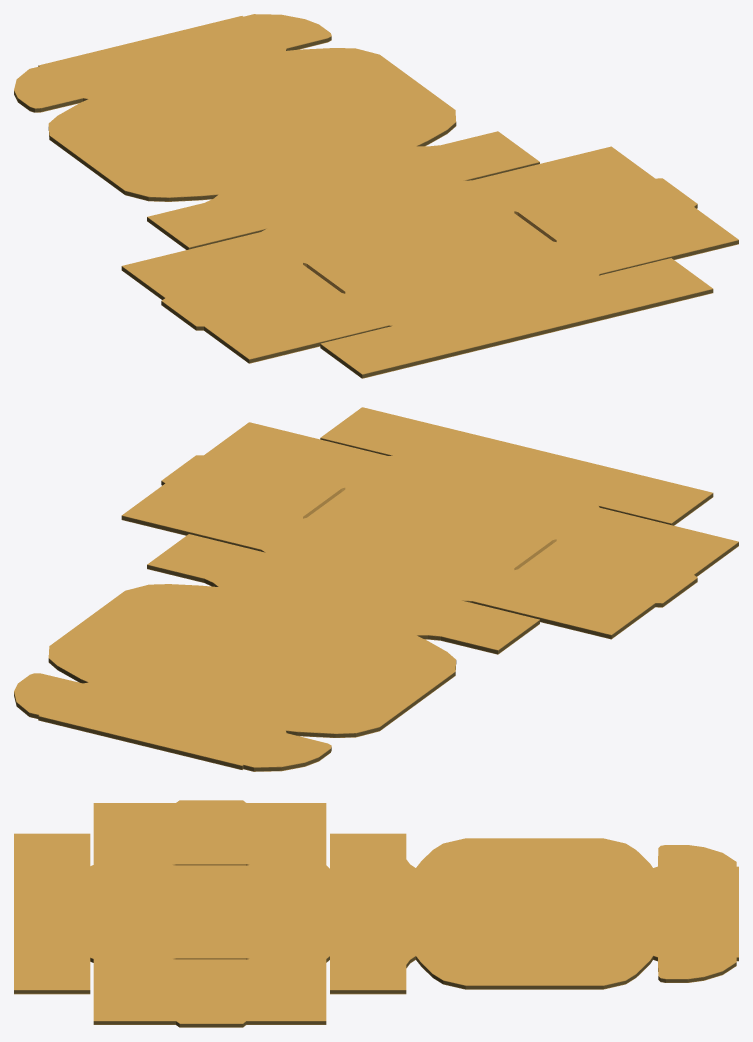
The model's file is caja_9.gltf.
3 renders of one model, top to bottom at view 1: azimuth 30°, elevation 25°; view 2: azimuth 150°, elevation 25°; view 3: azimuth 270°, elevation 25°, orthographic. The views are drawn at different scales.
Parts seen in each view (by area): view 1: caja_1.003; view 2: caja_1.003; view 3: caja_1.003.
Part boxes in pixels (x1,y1,x2,y2): caja_1.003: (14,14,738,378); caja_1.003: (14,407,738,771); caja_1.003: (14,800,738,1027).
Bounding box in the file's own units: 34.57 × 0.3014 × 47.46.
